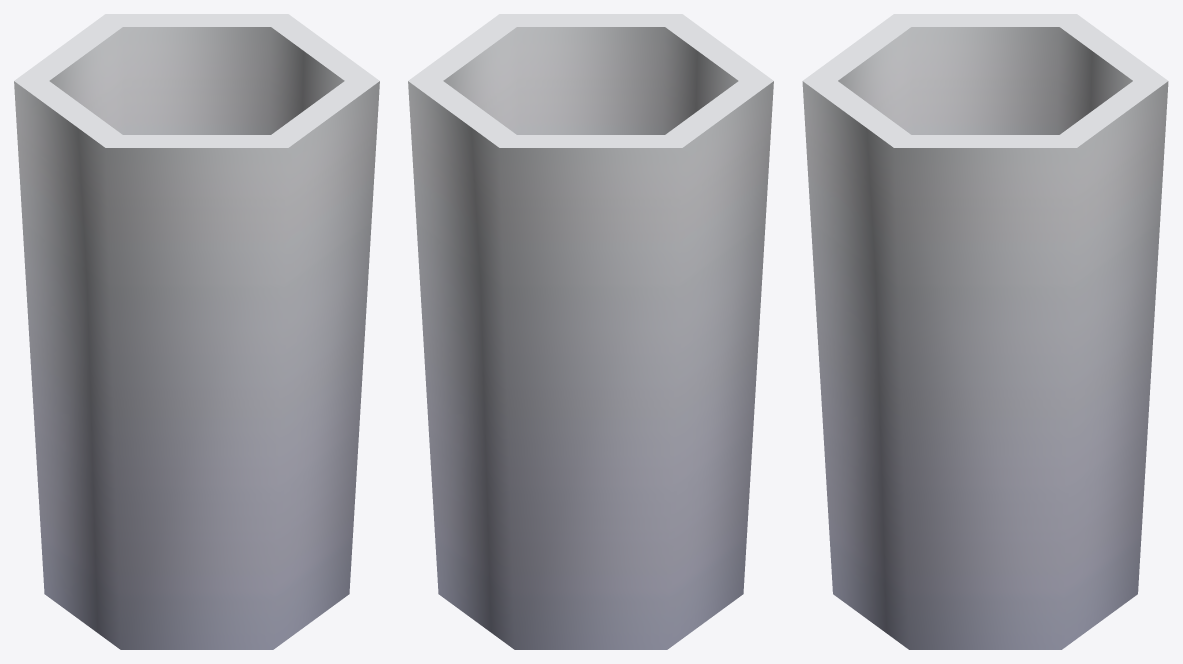
File: kenney-food-glass.glb
3 renders of one model, left to right at view 1: azimuth 30°, elevation 25°; view 2: azimuth 150°, elevation 25°; view 3: azimuth 270°, elevation 25°, orthographic.
Visible parts, largest first — view 1: glass; view 2: glass; view 3: glass.
Part boxes in pixels (box(x1,y1,x2,y2)): glass: box(14, 14, 379, 649); glass: box(408, 14, 773, 649); glass: box(802, 14, 1168, 649).
Bounding box in the file's own units: 0.1596 × 0.2851 × 0.1843.
Materials: 1 (1 with a texture image).
